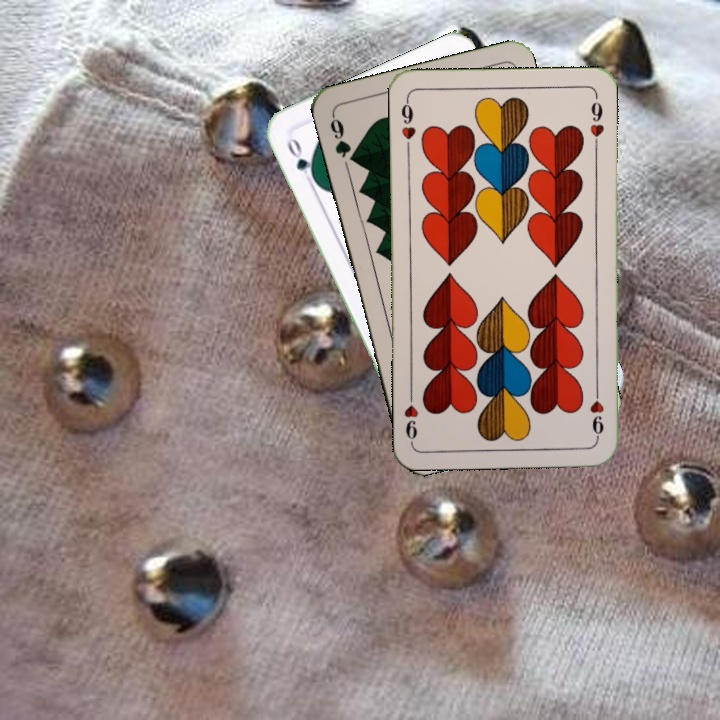G9: (326, 111, 360, 166)
GO: (283, 134, 319, 188)
H9: (397, 94, 418, 153), (586, 382, 607, 441)
